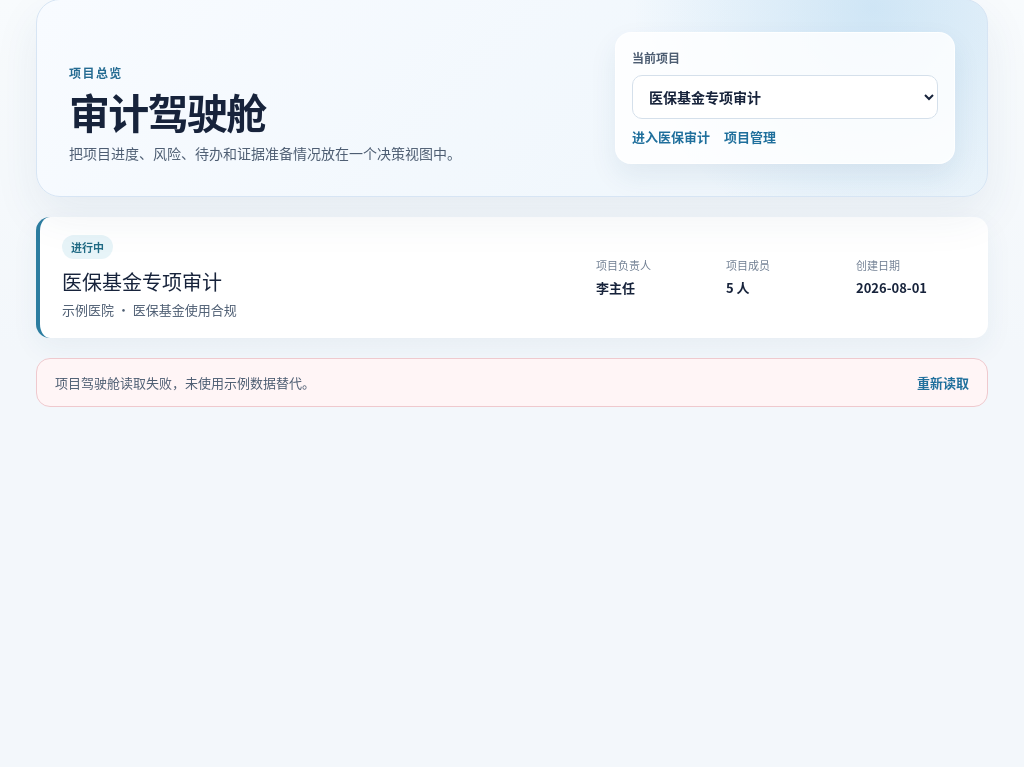
Test case: AuditCockpit › retries a failed dashboard request for the same selected project
Expected: the message shows "项目驾驶舱读取失败", 55,372 -> 315,392
What coordinates should you click on to do the following:
click the button "重新读取"
I would click on:
 (943, 382)
Its box is 917,372 -> 969,392.
(page scrolled)
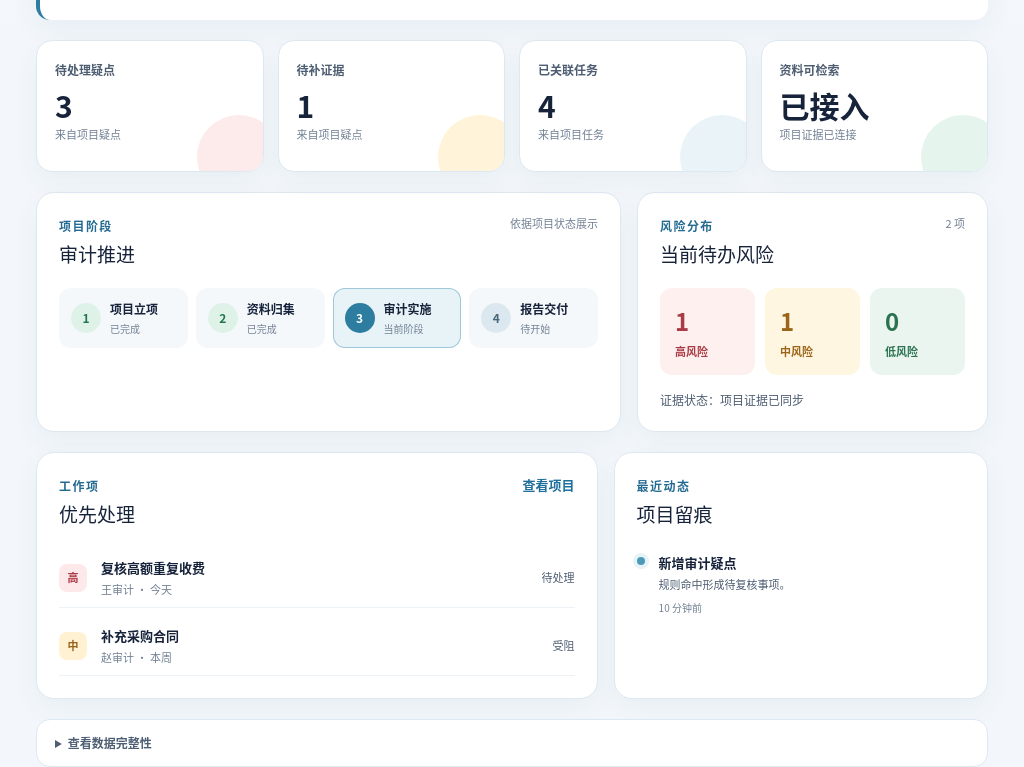
Expected: the text "复核高额重复收费" is shown, 101,558 -> 205,577
